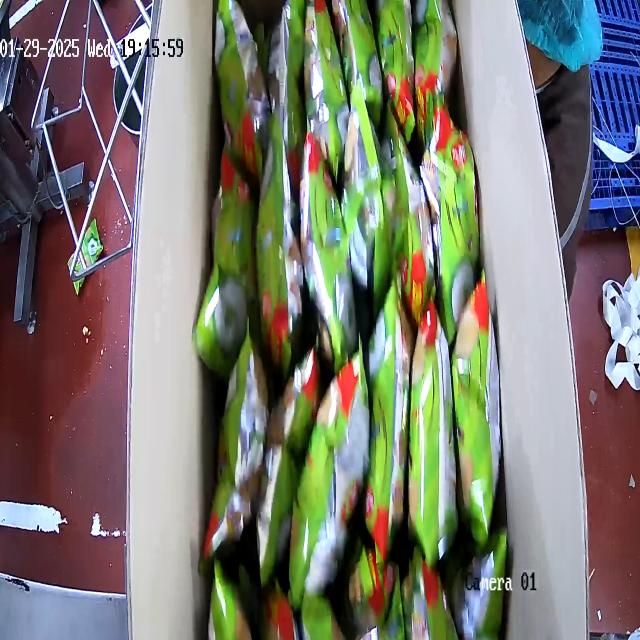YOGURT_HERB: (195, 1, 507, 637)
